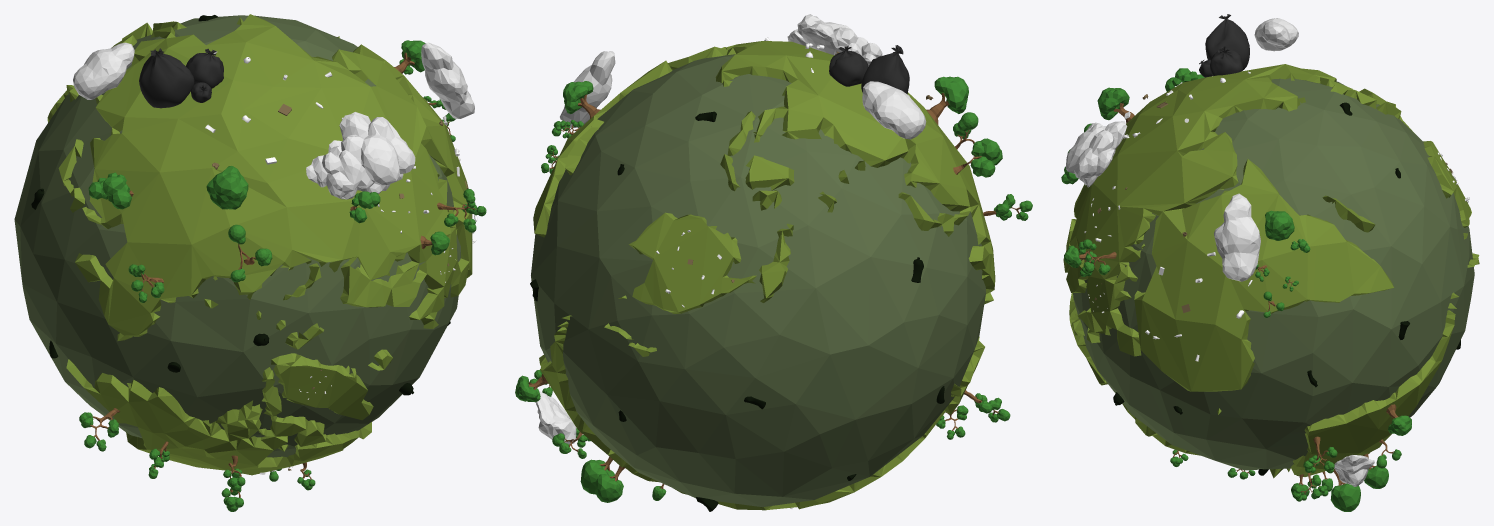
The picture shows the model from 3 angles, left to right: view 1: azimuth 30°, elevation 25°; view 2: azimuth 150°, elevation 25°; view 3: azimuth 270°, elevation 25°; orthographic projection. The views are drawn at different scales.
Parts seen in each view (by area): view 1: green_good.004; view 2: green_good.004; view 3: green_good.004.
Boxes of the visible parts, <box> form: green_good.004: <box>14,14,486,511</box>; green_good.004: <box>515,14,1032,511</box>; green_good.004: <box>1061,14,1479,511</box>.
Bounding box in the file's own units: 103 × 110 × 102.
